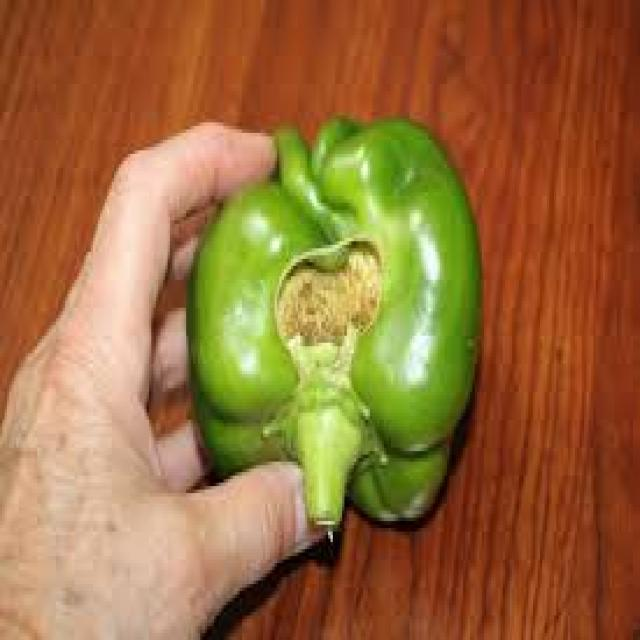Wet Waste: (170, 110, 493, 557)
